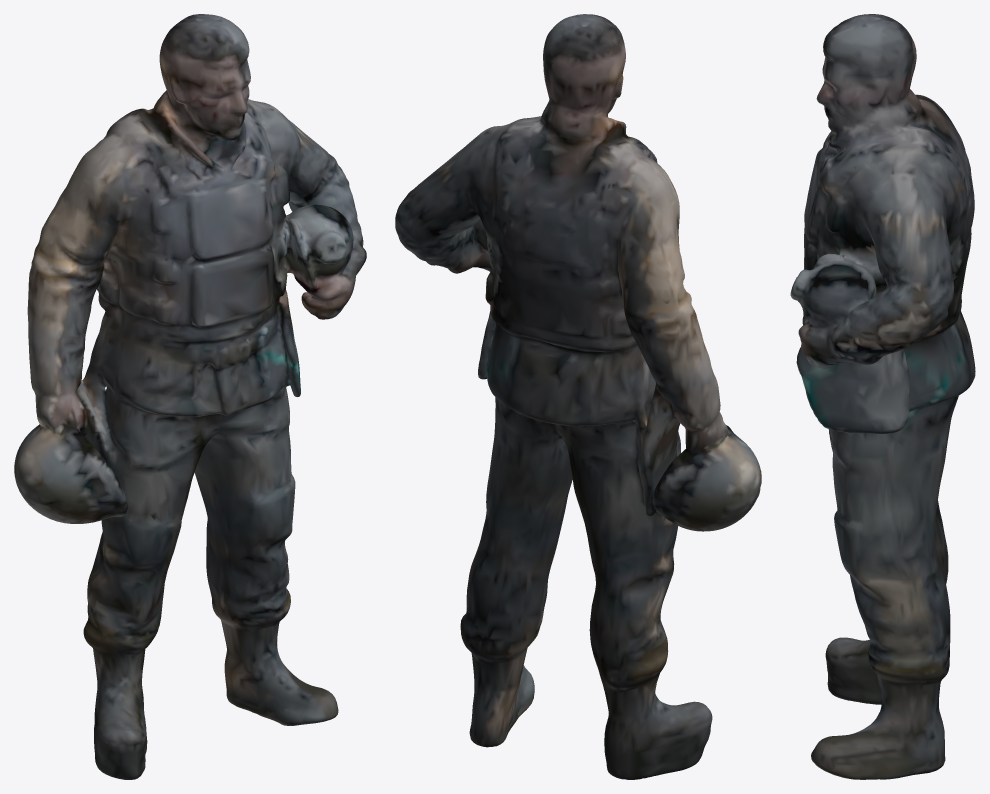
File: player_ai.glb
The picture shows the model from 3 angles, left to right: view 1: azimuth 30°, elevation 25°; view 2: azimuth 150°, elevation 25°; view 3: azimuth 270°, elevation 25°; orthographic projection.
Visible parts, largest first — view 1: PlayerAI; view 2: PlayerAI; view 3: PlayerAI.
Part boxes in pixels (x1,y1,x2,y2): PlayerAI: (14, 14, 366, 779); PlayerAI: (395, 14, 761, 779); PlayerAI: (790, 14, 975, 779).
Bounding box in the file's own units: 0.8778 × 1.8 × 0.4201.
